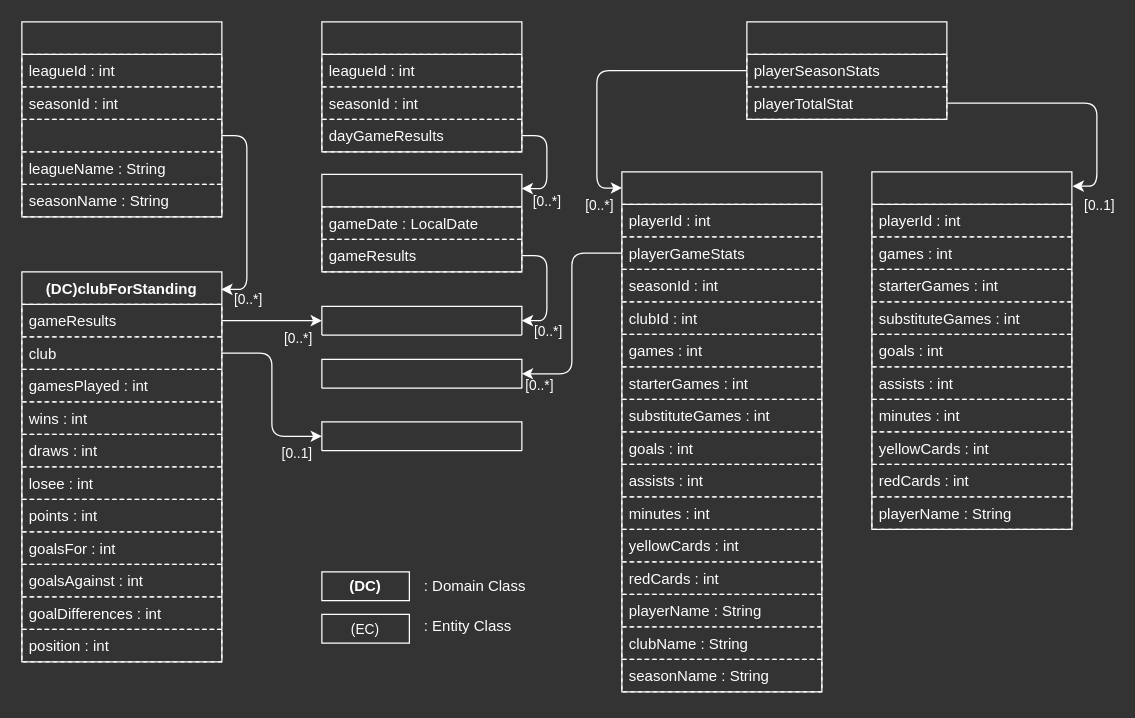
This 1135x718 diagram has some shape labels left out. The box of each missing label's shape, as (x1, y1, x2, y2) in pixels:
(DC)DayGameResult: (321, 173, 522, 272)
(DC)PlayerCareerStat: (746, 21, 947, 119)
(DC)PlayerSeasonStat: (621, 171, 822, 692)
(DC)PlayerTotalStat: (871, 171, 1072, 529)
(DC)SeasonGameResult: (321, 21, 522, 152)
(DC)Standing: (21, 21, 222, 217)
(EC)Club: (321, 421, 522, 451)
(EC)GameResult: (321, 305, 522, 335)
(EC)PlayerGameStat: (321, 358, 522, 388)
clubForStandings: (21, 118, 222, 152)
